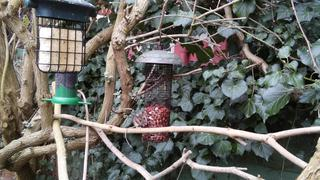mouse: (124, 110, 147, 149)
